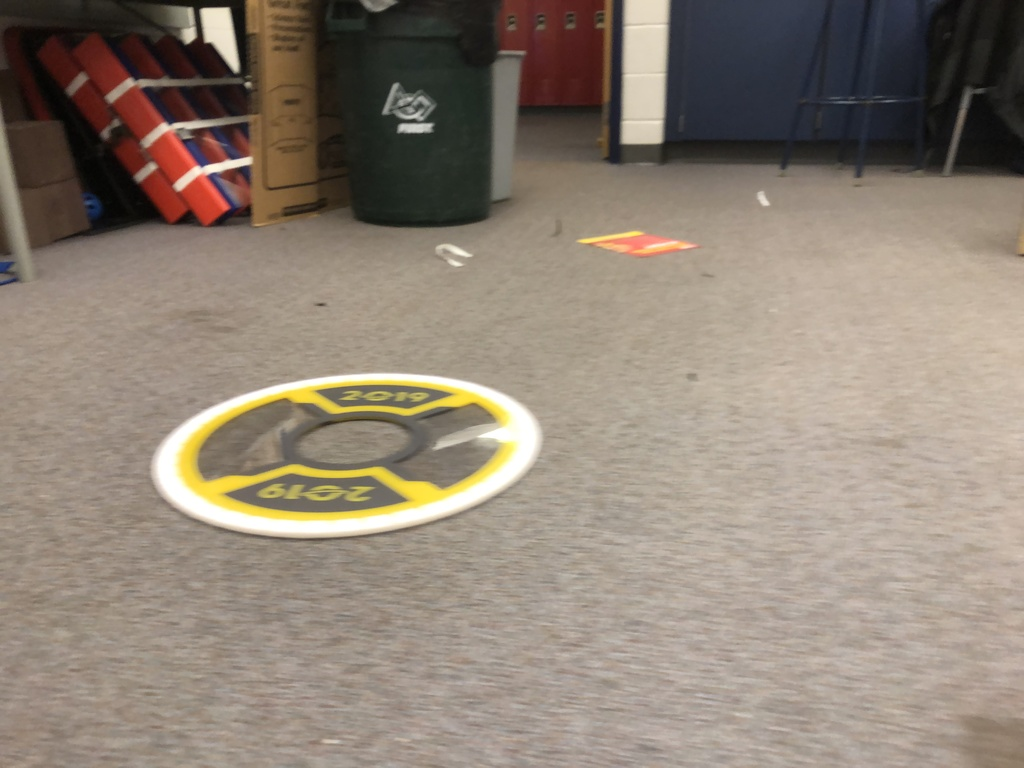hatch_panel: (140, 350, 550, 538)
